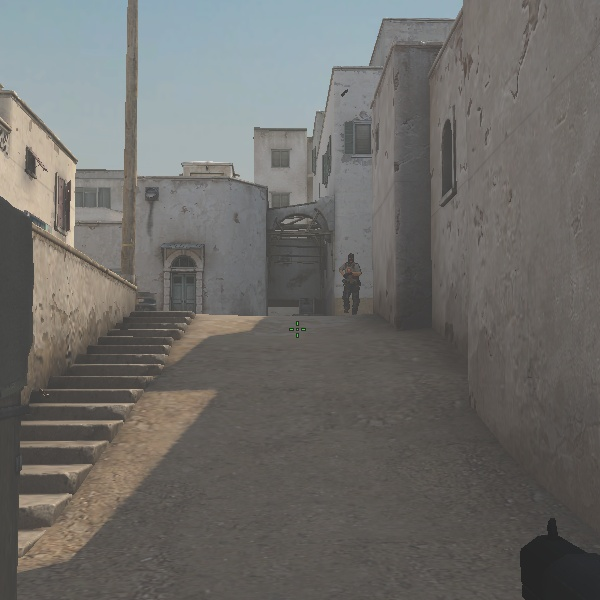t_body: (338, 252, 362, 315)
t_head: (347, 253, 355, 266)
